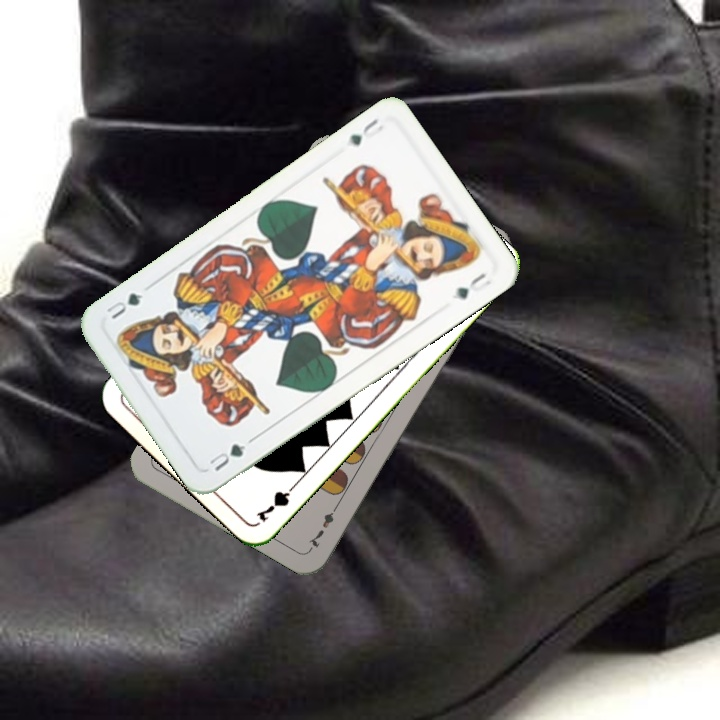E7: (304, 498, 342, 552)
G7: (252, 477, 301, 525)
GU: (205, 439, 249, 474), (342, 114, 386, 149)
